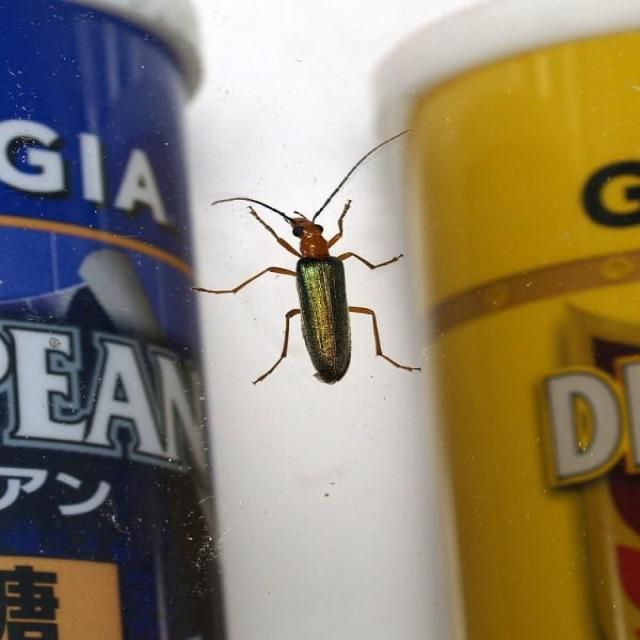BlisterBeetle-Adult-: (191, 125, 421, 386)
